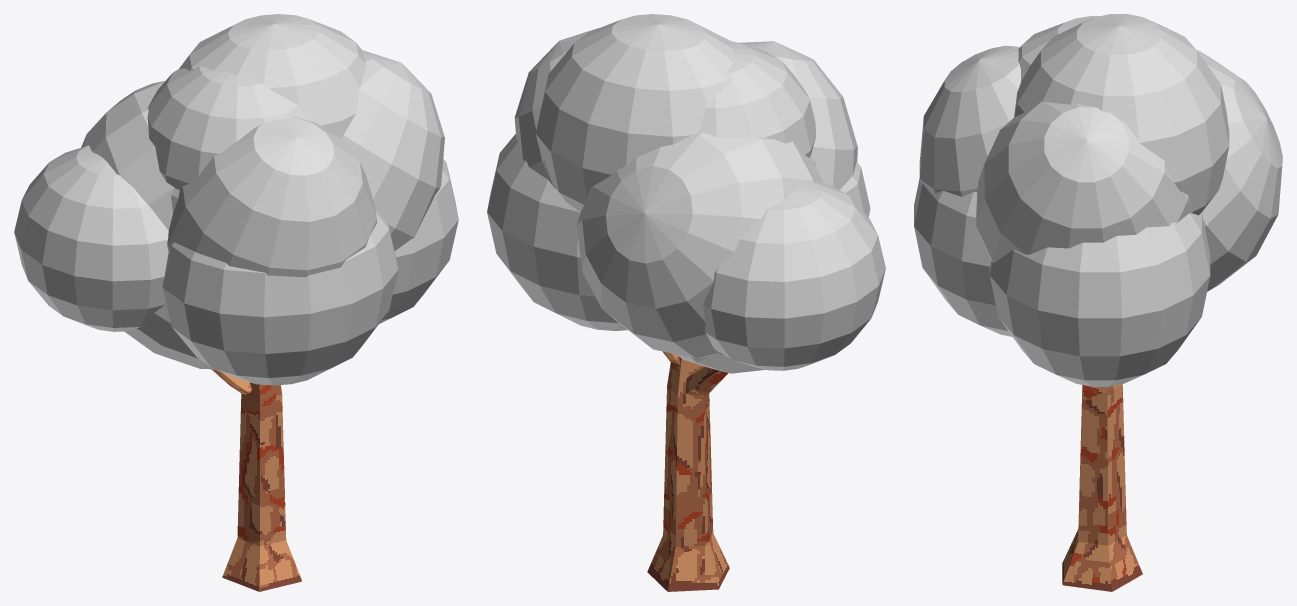
Rendered from tree.gltf.
The picture shows the model from 3 angles, left to right: view 1: azimuth 30°, elevation 25°; view 2: azimuth 150°, elevation 25°; view 3: azimuth 270°, elevation 25°; orthographic projection. The views are drawn at different scales.
Parts seen in each view (by area): view 1: leafs, cylinder; view 2: leafs, cylinder (×2); view 3: leafs, cylinder.
Boxes of the visible parts, x1,y1,x2,y2 form: leafs: (14,14,458,385); cylinder: (222,382,302,591); leafs: (487,14,885,373); cylinder (×2): (647,357,729,591); leafs: (914,14,1282,386); cylinder: (1062,384,1142,591).
Bounding box in the file's own units: 10.66 × 14.23 × 8.52.
2 materials, 1 textured.
